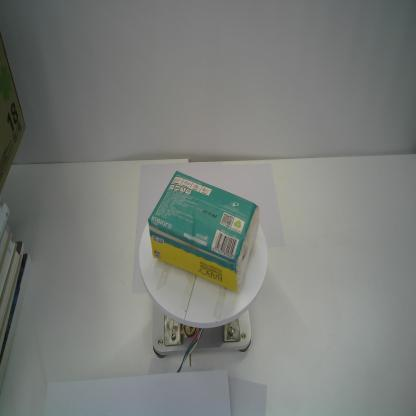Tissue: (148, 169, 262, 294)
